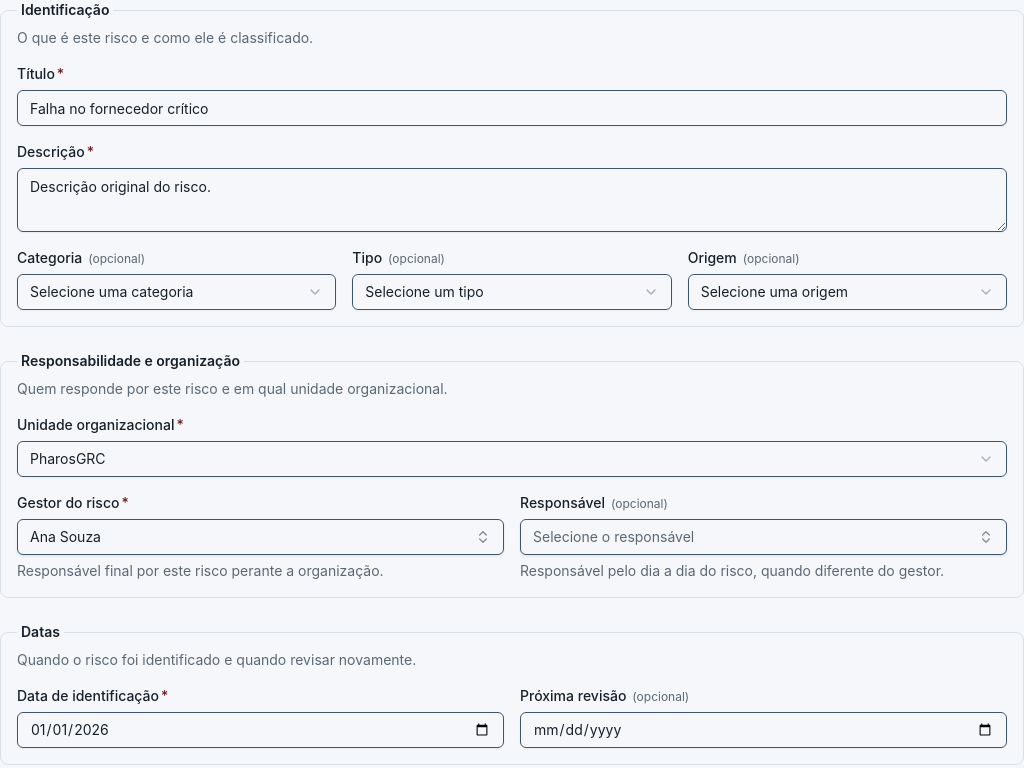
Test: RiskForm › owner/responsible pickers use the ASSIGNMENT listing for the form’s selected org unit › requests the assignment listing for the org unit already selected in the form, not the caller’s browse scope
Expected: the field labelled "Título*" is enabled, 17,90 -> 1007,126
Click the dropdown named "Gestor do risco".
click(65, 536)  # box 17,519 -> 504,555
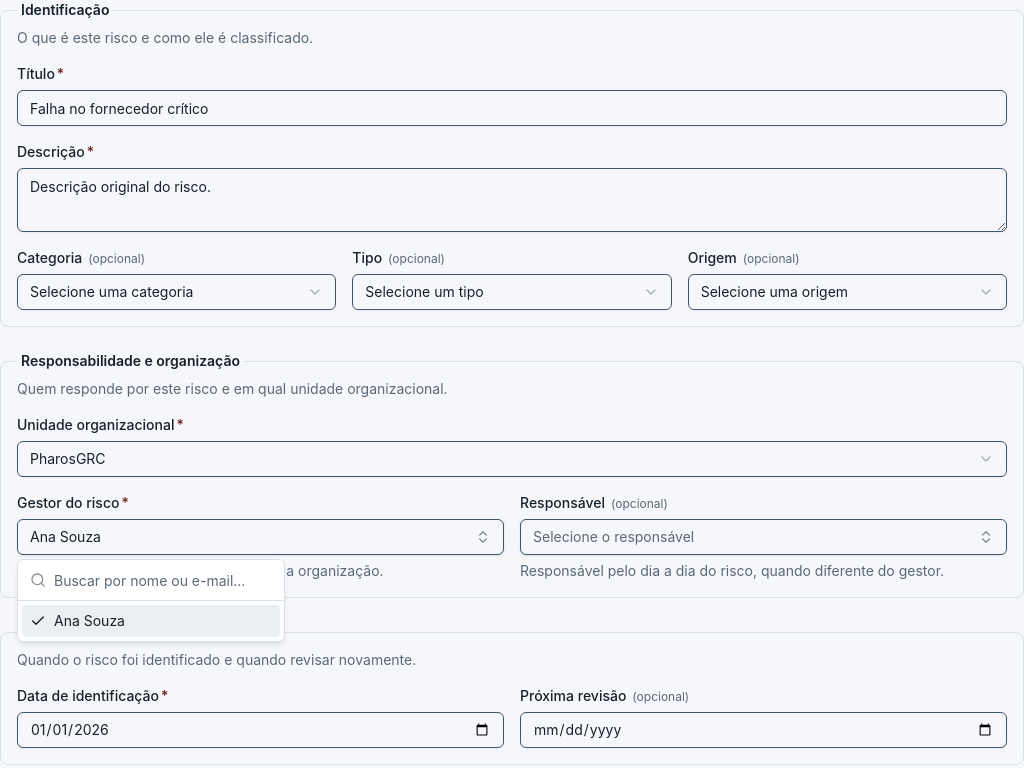
Expected: the option "Ana Souza" is shown, 22,605 -> 280,637
